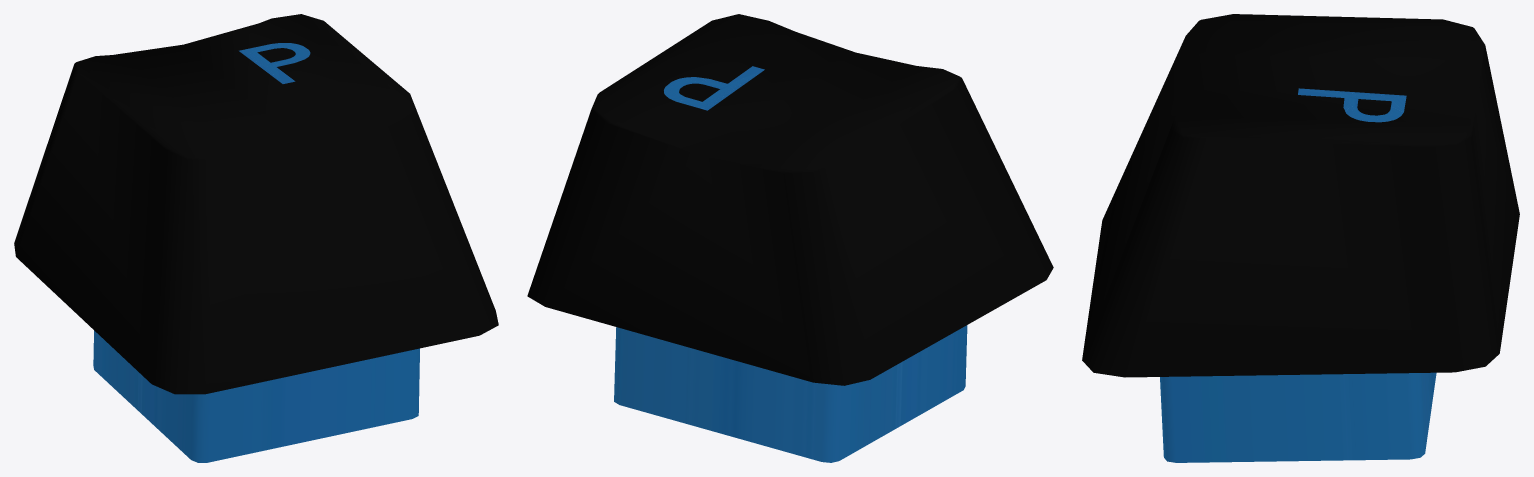
File: p-5bZjB7GH.glb
3 renders of one model, left to right at view 1: azimuth 30°, elevation 25°; view 2: azimuth 150°, elevation 25°; view 3: azimuth 270°, elevation 25°, orthographic. The views are drawn at different scales.
Parts seen in each view (by area): view 1: StudyShelf_1027; view 2: StudyShelf_1027; view 3: StudyShelf_1027.
Part boxes in pixels (left/top/right/bottom): StudyShelf_1027: left=14, top=14, right=498, bottom=462; StudyShelf_1027: left=527, top=14, right=1053, bottom=462; StudyShelf_1027: left=1082, top=14, right=1519, bottom=462.
Size of the model in its own units: 4.35 by 3.66 by 4.35.
2 materials, 1 textured.
